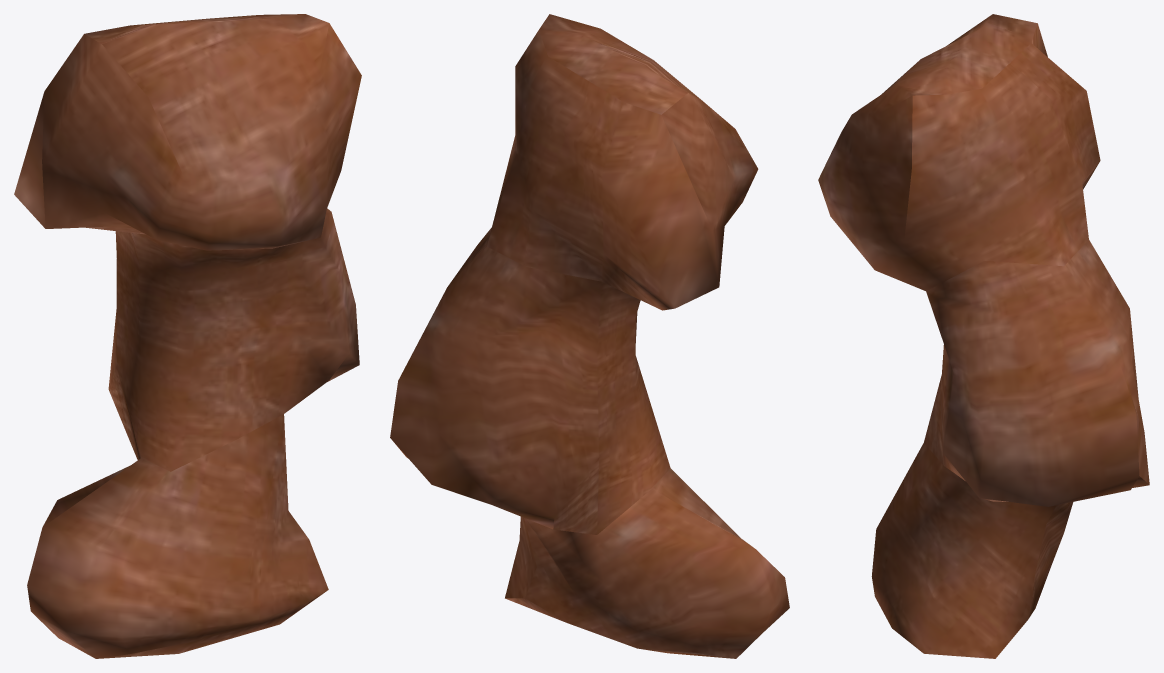
Rendered from Canyon_Rock_Formations_12.glb.
The picture shows the model from 3 angles, left to right: view 1: azimuth 30°, elevation 25°; view 2: azimuth 150°, elevation 25°; view 3: azimuth 270°, elevation 25°; orthographic projection. The views are drawn at different scales.
Parts seen in each view (by area): view 1: Canyon_Rock_Formations_12_0; view 2: Canyon_Rock_Formations_12_0; view 3: Canyon_Rock_Formations_12_0.
Part boxes in pixels (x1,y1,x2,y2): Canyon_Rock_Formations_12_0: [14, 14, 361, 658]; Canyon_Rock_Formations_12_0: [390, 14, 789, 658]; Canyon_Rock_Formations_12_0: [818, 14, 1149, 658].
Size of the model in its own units: 7.01 by 12.02 by 6.12.
Materials: 1 (1 with a texture image).
